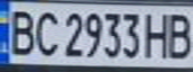2: (60, 8, 84, 59)
3: (121, 9, 145, 58), (103, 9, 124, 60)
9: (81, 8, 106, 59)
B: (3, 6, 39, 57), (163, 9, 193, 60)
C: (30, 7, 60, 57)
H: (142, 9, 172, 60)
